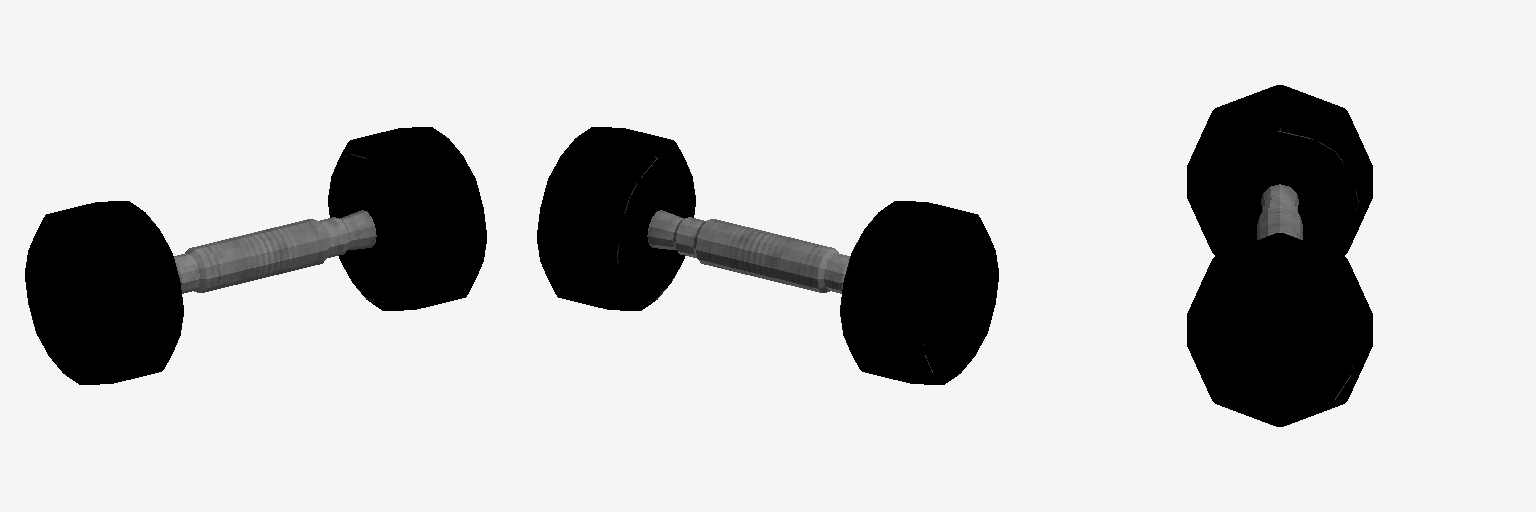
3 views of the same model, side by side, from view 1: azimuth 30°, elevation 25°; view 2: azimuth 150°, elevation 25°; view 3: azimuth 270°, elevation 25° (orthographic).
Visible parts, largest first — view 1: Dumbbell_Q, Dumbbell_Q.001_Dumbbell_Q.002; view 2: Dumbbell_Q, Dumbbell_Q.001_Dumbbell_Q.002; view 3: Dumbbell_Q, Dumbbell_Q.001_Dumbbell_Q.002.
Boxes of the visible parts, box(x1,y1,x2,y2) form: Dumbbell_Q: box(25, 127, 486, 384); Dumbbell_Q.001_Dumbbell_Q.002: box(174, 210, 376, 293); Dumbbell_Q: box(537, 127, 998, 384); Dumbbell_Q.001_Dumbbell_Q.002: box(647, 210, 849, 293); Dumbbell_Q: box(1187, 85, 1372, 426); Dumbbell_Q.001_Dumbbell_Q.002: box(1257, 184, 1302, 239).
Bounding box in the file's own units: 0.4666 × 0.1963 × 0.1963.
Materials: 1 (1 with a texture image).